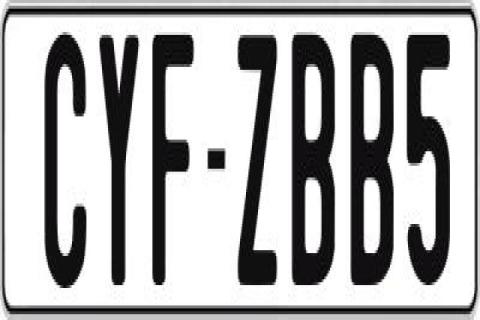0: (406, 35, 454, 294)
B: (349, 26, 396, 276), (292, 35, 336, 299)
C: (41, 29, 83, 285)
F: (150, 35, 194, 297)
Y: (100, 32, 142, 291)
Z: (234, 35, 276, 299)
